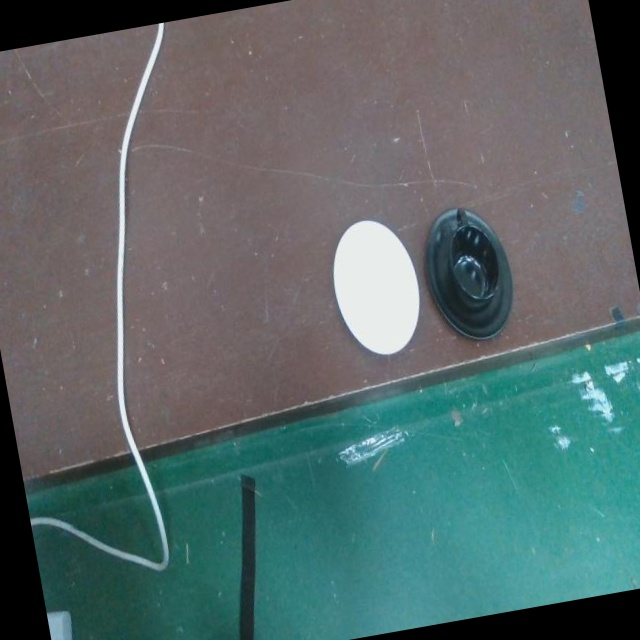black: (426, 201, 513, 345)
white: (332, 214, 421, 362)
